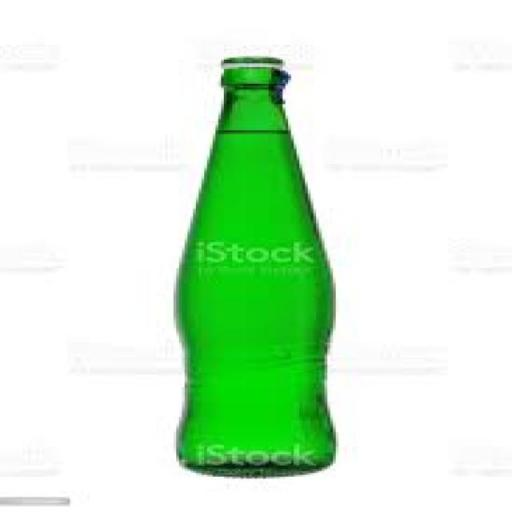glass: (141, 58, 363, 479)
